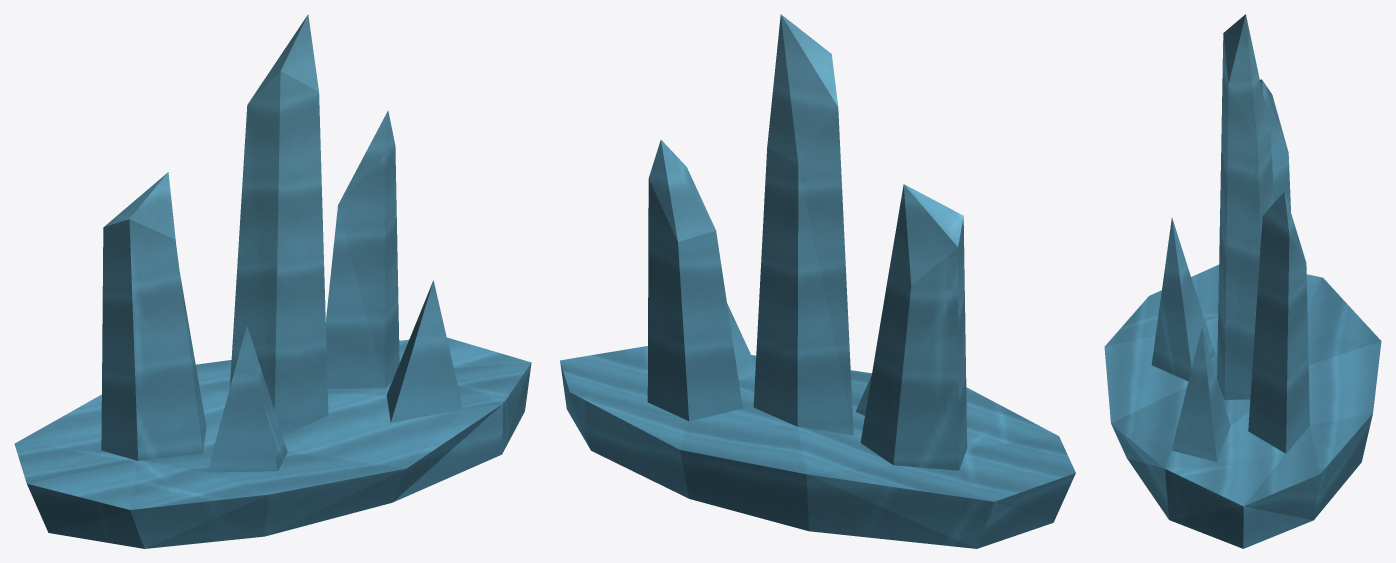
File: ice_serac_ridge.glb
3 renders of one model, left to right at view 1: azimuth 30°, elevation 25°; view 2: azimuth 150°, elevation 25°; view 3: azimuth 270°, elevation 25°, orthographic. The views are drawn at different scales.
Parts seen in each view (by area): view 1: ice_serac_ridge; view 2: ice_serac_ridge; view 3: ice_serac_ridge.
Part boxes in pixels (bbox=[...]): ice_serac_ridge: bbox=[14, 14, 531, 548]; ice_serac_ridge: bbox=[560, 14, 1075, 548]; ice_serac_ridge: bbox=[1104, 14, 1381, 548].
Bounding box in the file's own units: 2.63 × 2.21 × 1.28.
1 material, 1 textured.
